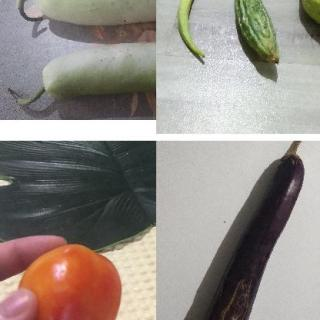Tomat: (13, 244, 124, 320)
